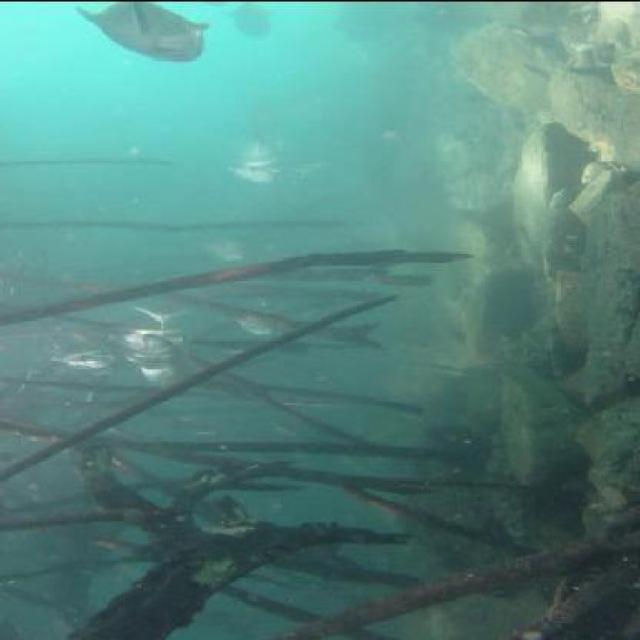Caranx_sexfasciatus_juvenile: (75, 0, 214, 62), (132, 298, 196, 384), (112, 321, 188, 368), (222, 0, 286, 42), (234, 132, 292, 168), (56, 346, 126, 374), (195, 236, 258, 262), (228, 163, 282, 188), (164, 415, 222, 437)
